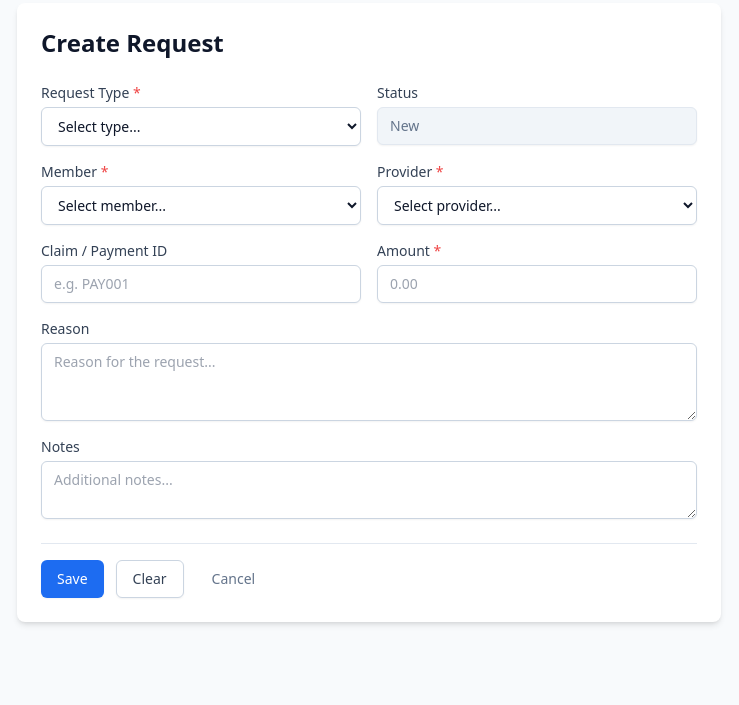
Test: RequestForm › successful save › saves a new request to localStorage on valid submit
Select "Refund" in the dropdown labelled "Request Type *": (201, 126) [41,107,361,146]
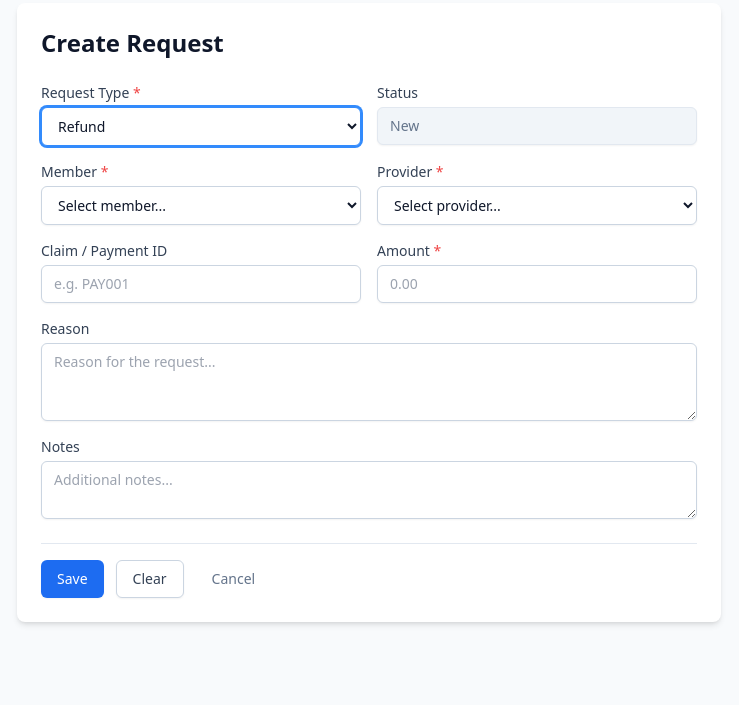
Select "MEM001 — John Smith" in the dropdown labelled "Member *": (201, 206) [41,186,361,225]
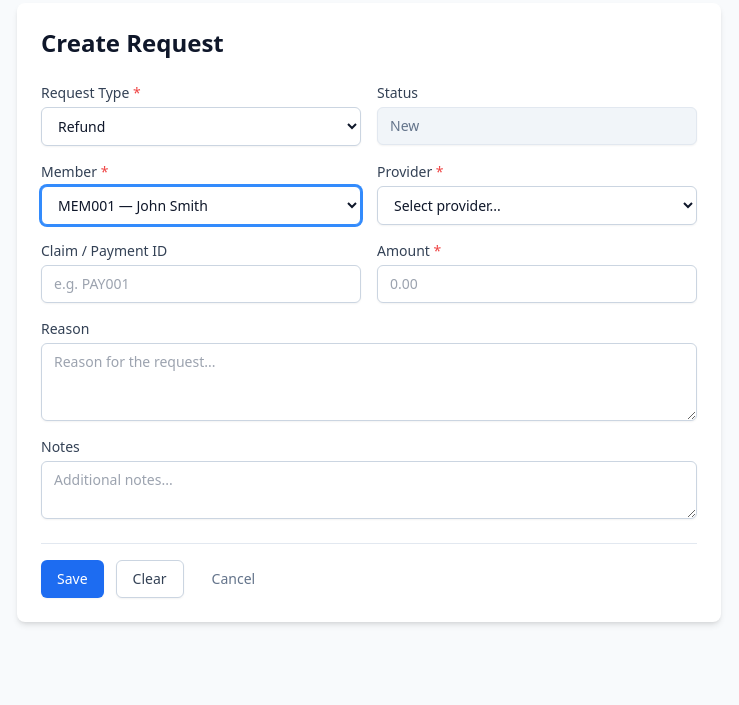
Select "PRV001 — City General Hospital" in the dropdown labelled "Provider *": (537, 206) [377,186,697,225]
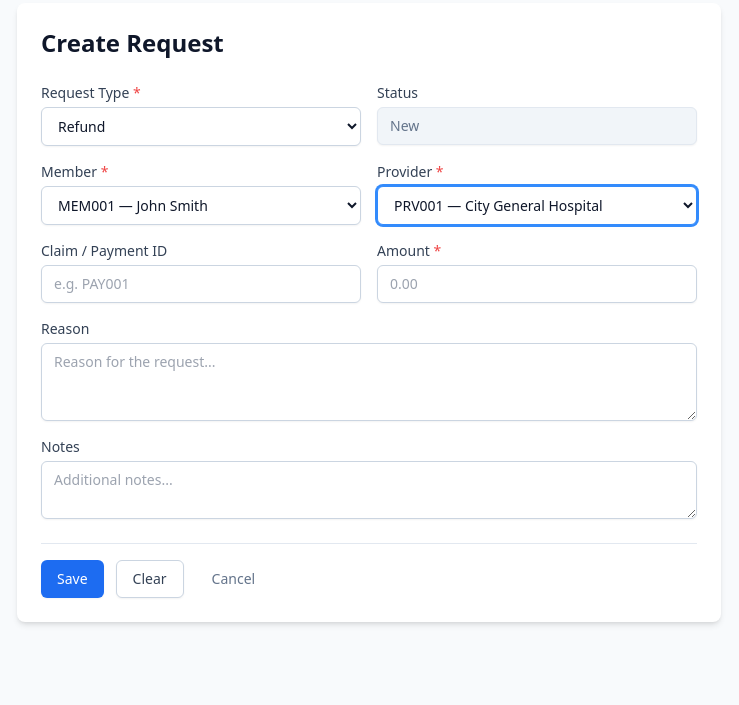
In the number field labelled "Amount *": (537, 284) [377,265,697,303], type "1500.00"
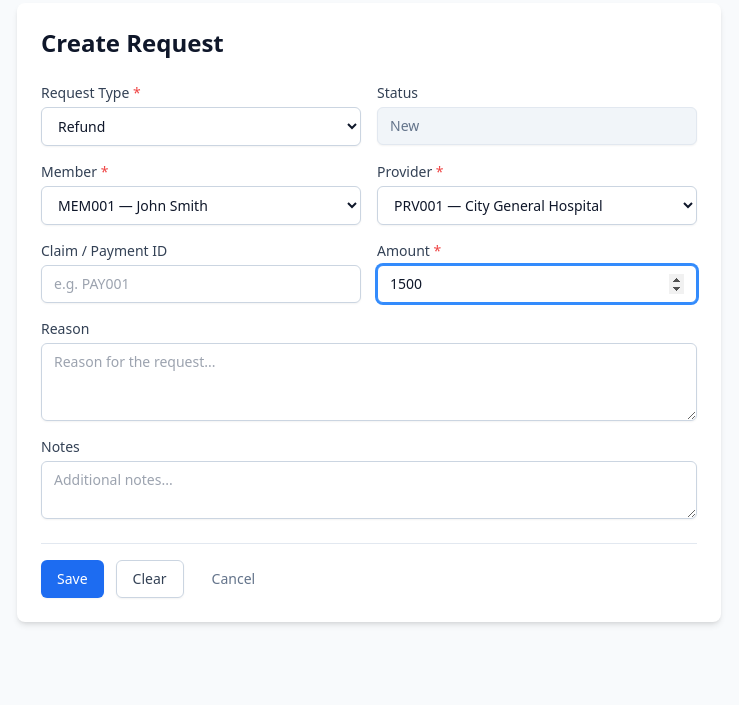
Click the button "Save": (72, 579) [41,560,104,598]
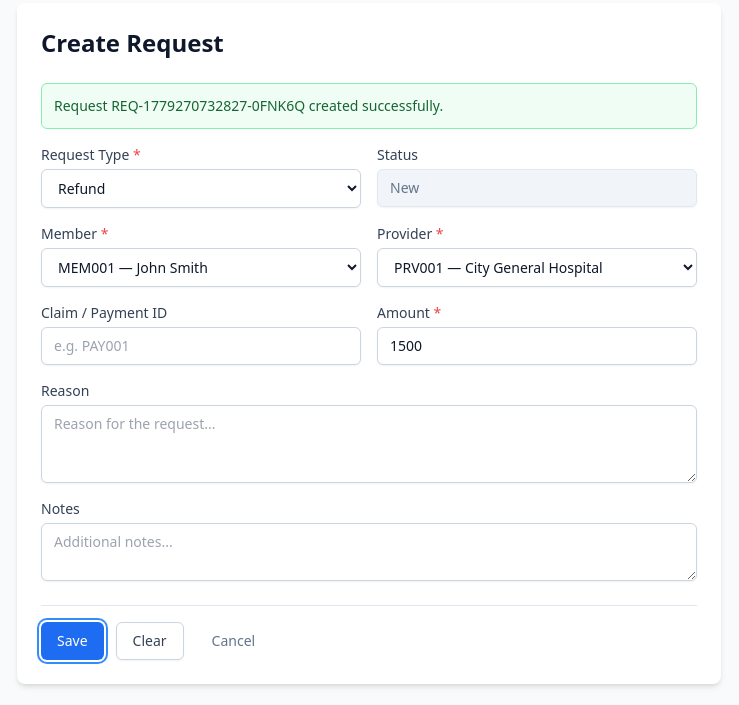
expect the text "created successfully" is shown: met, box [54,96,443,115]
